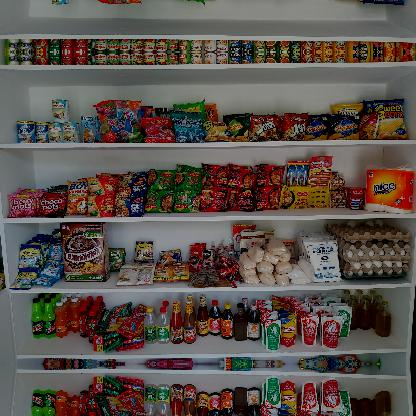Koko-Krunch: (59, 220, 111, 284)
